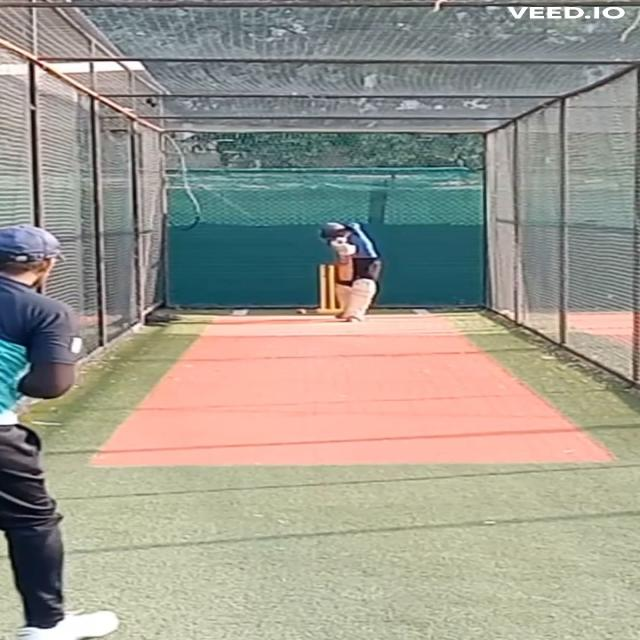ball: (296, 308, 307, 316)
stump: (316, 265, 339, 314)
